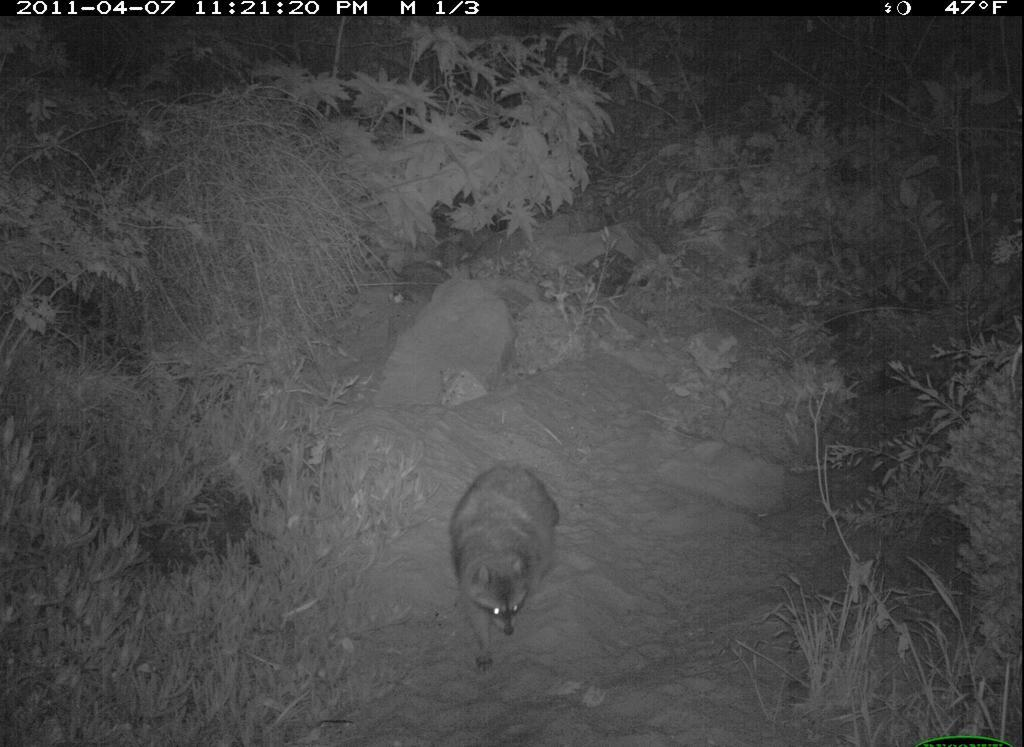raccoon: (438, 459, 570, 678)
